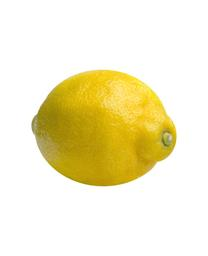lemon: (32, 68, 175, 187)
